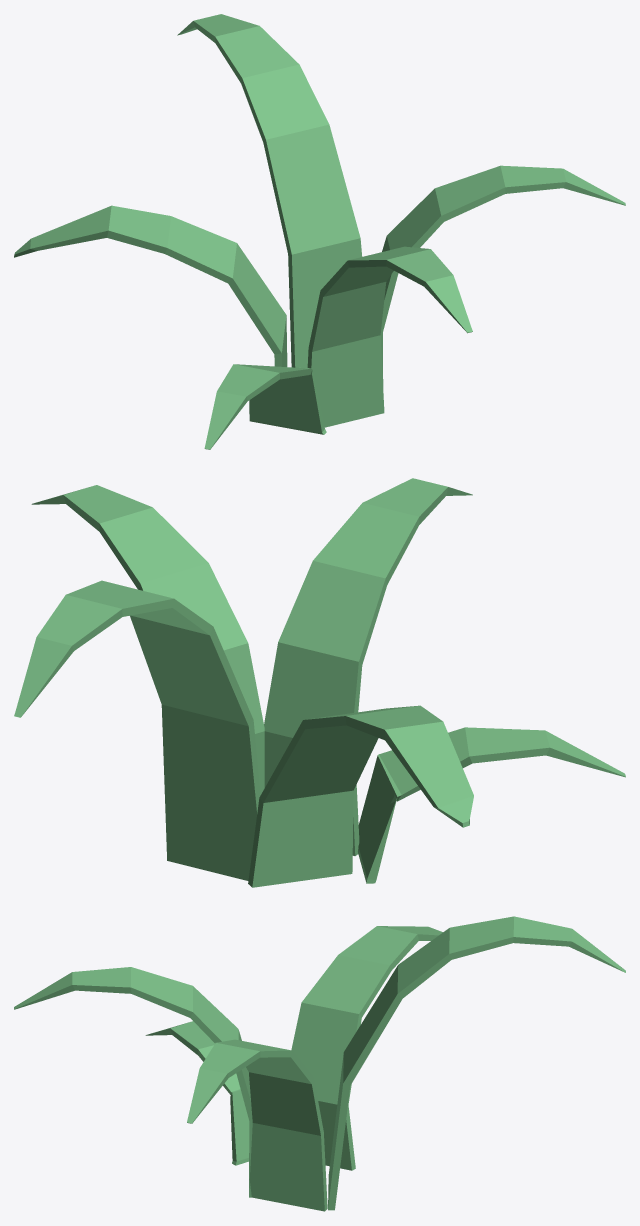
File: weed.gltf
3 renders of one model, top to bottom at view 1: azimuth 30°, elevation 25°; view 2: azimuth 150°, elevation 25°; view 3: azimuth 270°, elevation 25°, orthographic. The views are drawn at different scales.
Visible parts, largest first — view 1: Cube; view 2: Cube; view 3: Cube.
Part boxes in pixels (bbox=[...]): Cube: bbox=[14, 14, 625, 449]; Cube: bbox=[14, 478, 625, 887]; Cube: bbox=[14, 916, 625, 1211].
Bounding box in the file's own units: 12.54 × 7.07 × 14.67.
1 material, 1 textured.
